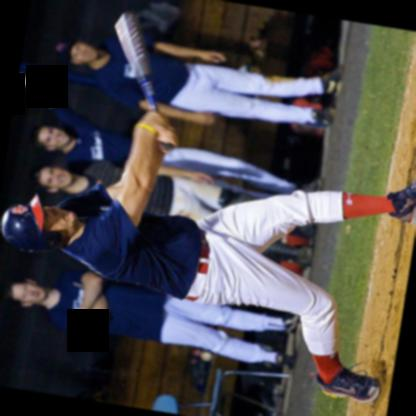backpack: (280, 91, 335, 136)
